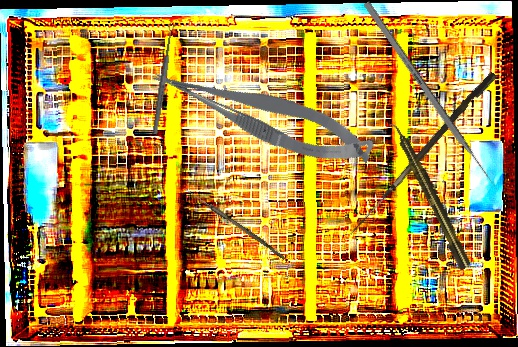Handpiece: (388, 118, 473, 272)
Hook Surgical: (349, 68, 498, 242)
Micro Scissor: (148, 40, 379, 186)
Pusher: (362, 0, 501, 194)
Surgical Spoon: (181, 186, 288, 260), (151, 23, 176, 135)
